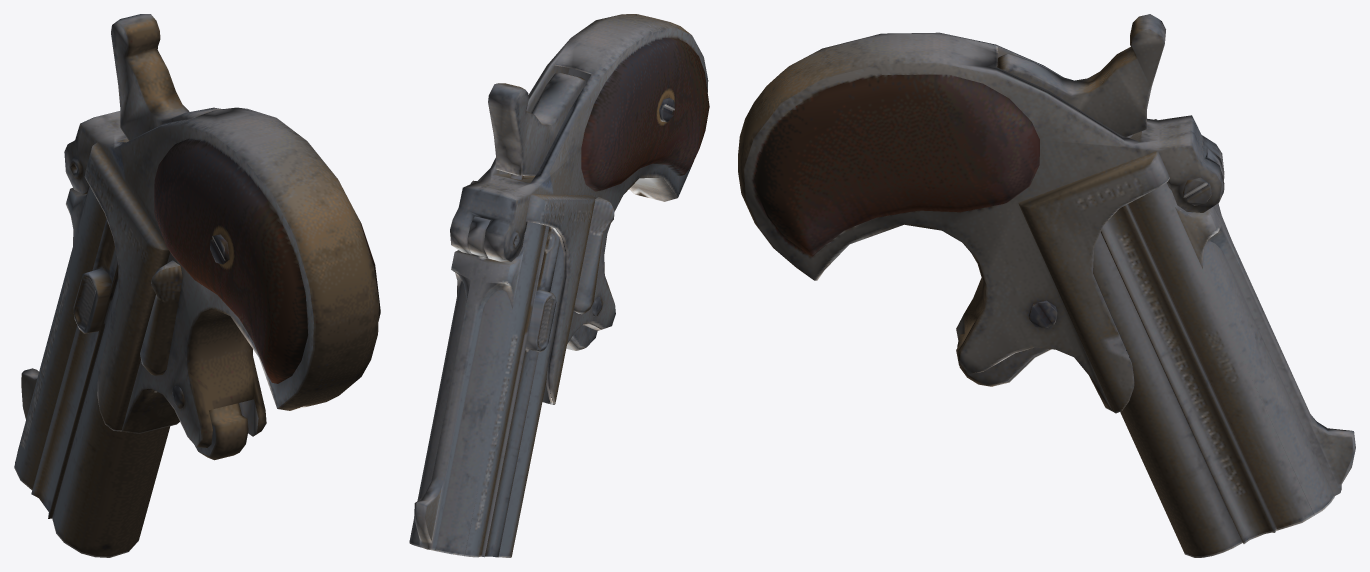
Rendered from DerringerMelee.fbx.
The picture shows the model from 3 angles, left to right: view 1: azimuth 30°, elevation 25°; view 2: azimuth 150°, elevation 25°; view 3: azimuth 270°, elevation 25°; orthographic projection. The views are drawn at different scales.
Parts seen in each view (by area): view 1: Derringer.001; view 2: Derringer.001; view 3: Derringer.001.
Part boxes in pixels (<box>): Derringer.001: <box>14,14,380,557</box>; Derringer.001: <box>409,14,709,557</box>; Derringer.001: <box>738,14,1355,557</box>.
Bounding box in the file's own units: 0.0225 × 0.1086 × 0.1152.
